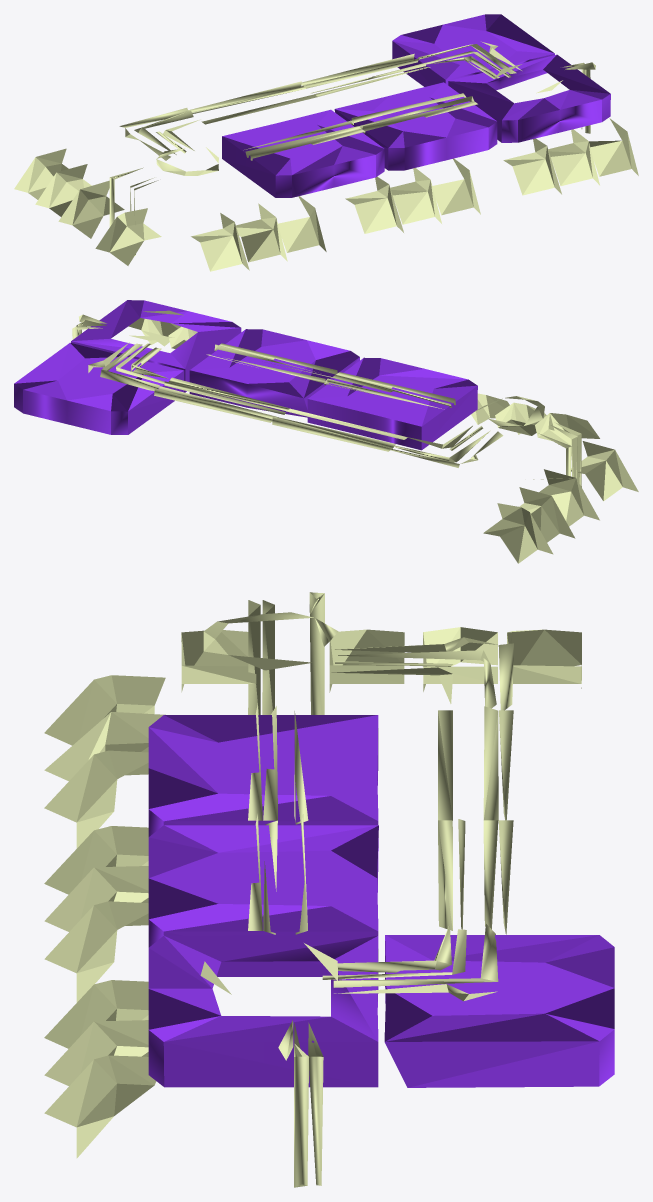
Rendered from backdrop_top_a_lod3.glb.
3 renders of one model, top to bottom at view 1: azimuth 30°, elevation 25°; view 2: azimuth 150°, elevation 25°; view 3: azimuth 270°, elevation 25°, orthographic. The views are drawn at different scales.
Bounding box in the file's own units: 264 × 40.9 × 129.
